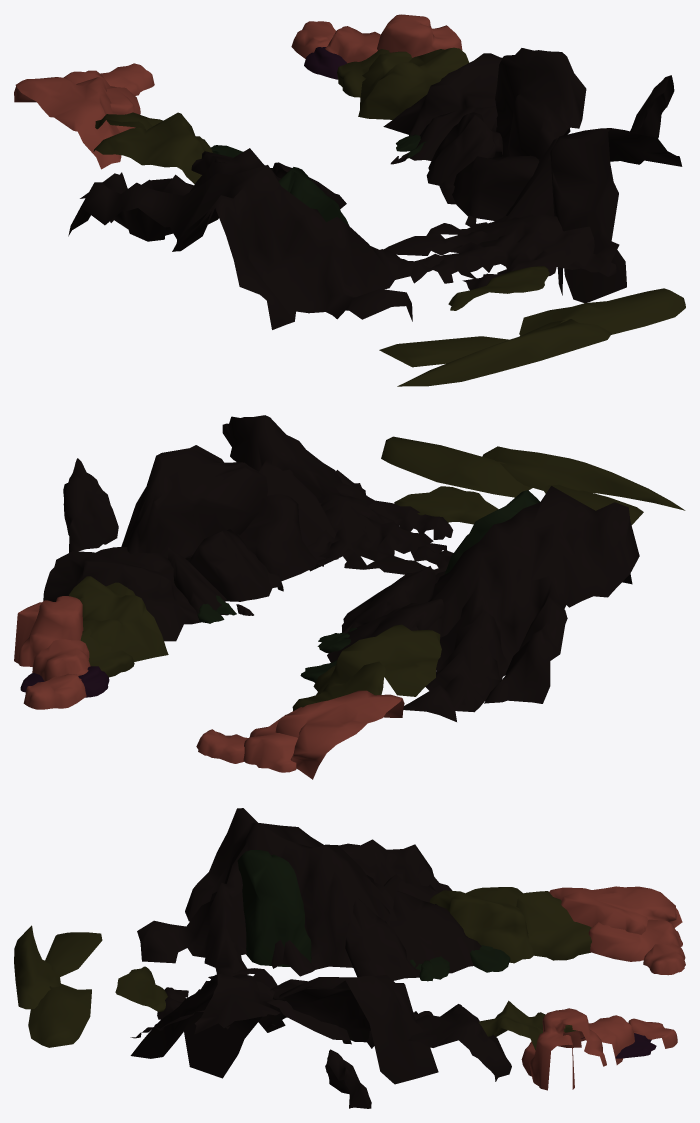
Rendered from GrasslandBoss_MountainWall.fbx.
The picture shows the model from 3 angles, top to bottom: view 1: azimuth 30°, elevation 25°; view 2: azimuth 150°, elevation 25°; view 3: azimuth 270°, elevation 25°; orthographic projection. The views are drawn at different scales.
Parts seen in each view (by area): view 1: MountainWall_Black, MountainWall_BlackGrass 2, MountainWall, MountainWall_BlackGrass, MountainWall_Drak; view 2: MountainWall_Black, MountainWall_BlackGrass 2, MountainWall, MountainWall_BlackGrass, MountainWall_Drak; view 3: MountainWall_Black, MountainWall_BlackGrass 2, MountainWall, MountainWall_BlackGrass, MountainWall_Drak.
Part boxes in pixels (x1,y1,x2,y2): MountainWall_Black: (68, 48, 682, 329); MountainWall_BlackGrass 2: (93, 47, 685, 386); MountainWall: (14, 14, 462, 169); MountainWall_BlackGrass: (211, 134, 426, 225); MountainWall_Drak: (304, 47, 346, 79); MountainWall_Black: (43, 415, 639, 721); MountainWall_BlackGrass 2: (69, 436, 685, 710); MountainWall: (14, 596, 404, 779); MountainWall_BlackGrass: (197, 490, 539, 682); MountainWall_Drak: (20, 666, 109, 697); MountainWall_Black: (130, 808, 511, 1108); MountainWall_BlackGrass 2: (14, 887, 591, 1050); MountainWall: (521, 886, 685, 1090); MountainWall_BlackGrass: (237, 850, 510, 981); MountainWall_Drak: (581, 1033, 656, 1058).
Bounding box in the file's own units: 3216 × 949 × 4010.
